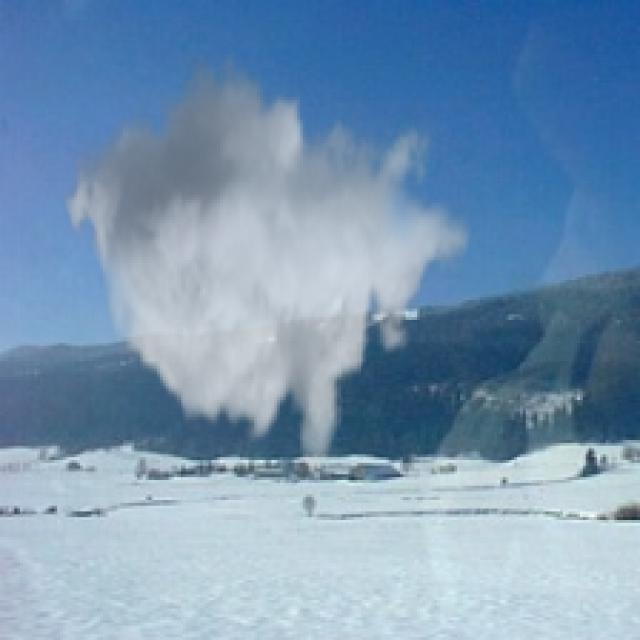smoke: (60, 49, 471, 472)
